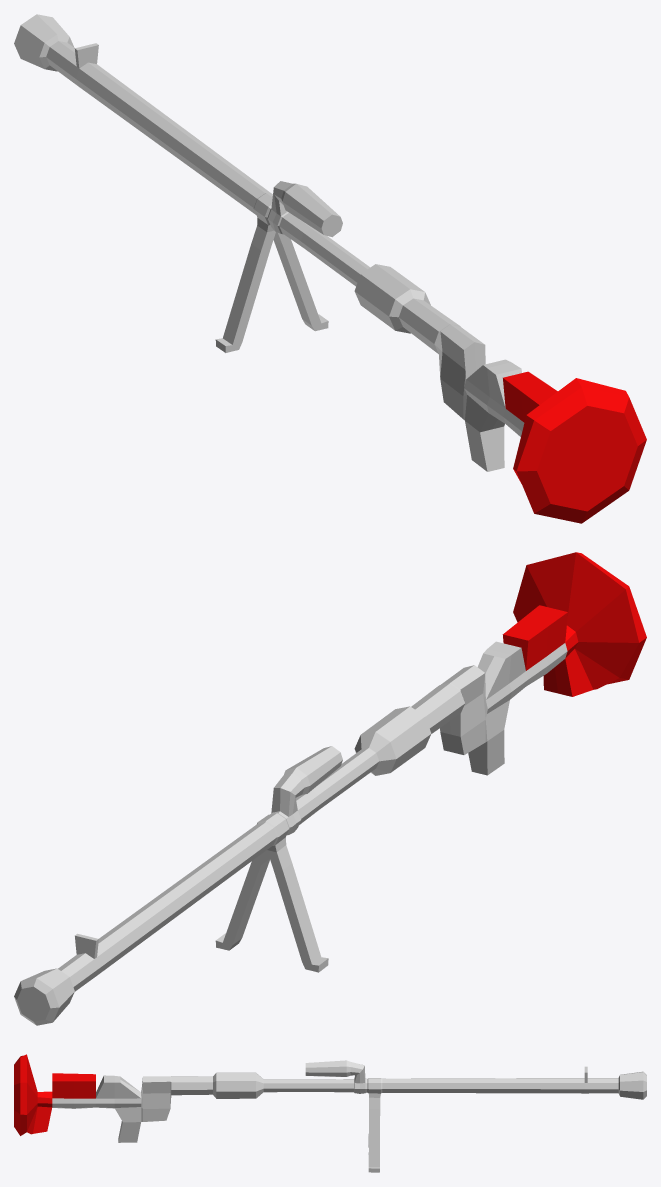
File: PTRD.glb
3 renders of one model, top to bottom at view 1: azimuth 30°, elevation 25°; view 2: azimuth 150°, elevation 25°; view 3: azimuth 270°, elevation 25°, orthographic. The views are drawn at different scales.
Parts seen in each view (by area): view 1: PTRD; view 2: PTRD; view 3: PTRD.
Boxes of the visible parts, x1,y1,x2,y2 form: PTRD: (14,14,646,523); PTRD: (14,552,646,1025); PTRD: (14,1054,646,1172).
Size of the model in its own units: 0.3258 by 0.4342 by 2.4.
